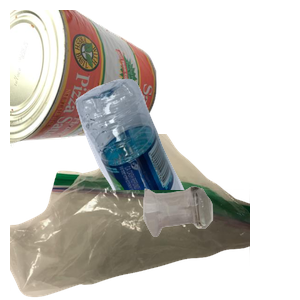glass: (141, 184, 300, 300)
metal: (10, 10, 159, 152)
plastic: (73, 76, 300, 256)
trash: (10, 134, 250, 300)
